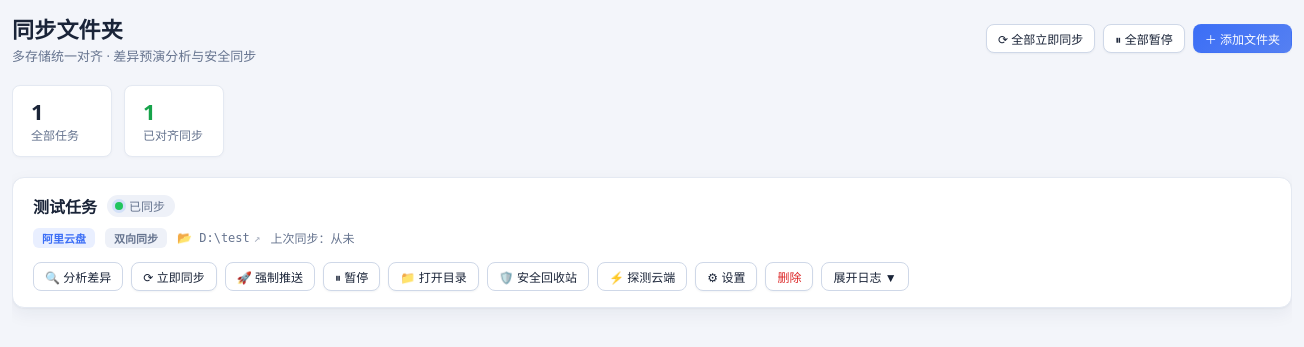
Test: manual sync acknowledges a queued request
Click the button titled "强制拉取远端元数据执行完整三方对比与同步": [174, 277] box [131,262,217,291]
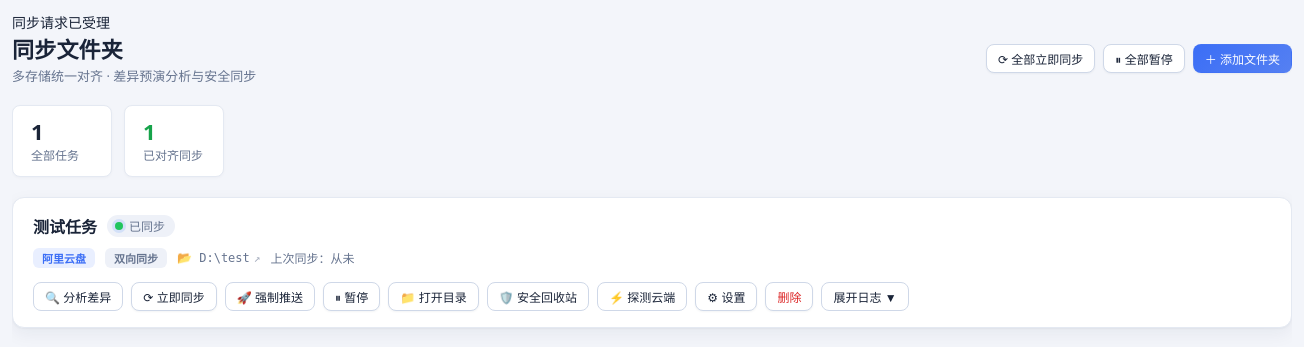
Expected: the message reads "同步请求已受理", [12,13,110,32]
